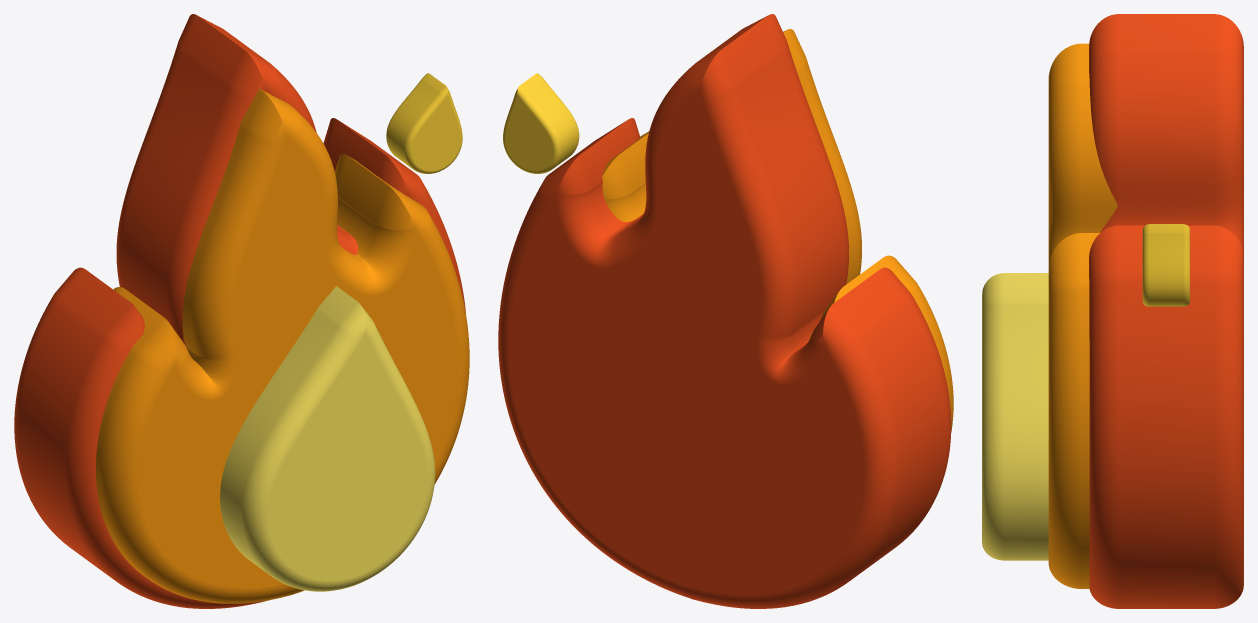
The model's file is flame.glb.
The picture shows the model from 3 angles, left to right: view 1: azimuth 30°, elevation 25°; view 2: azimuth 150°, elevation 25°; view 3: azimuth 270°, elevation 25°; orthographic projection. The views are drawn at different scales.
Visible parts, largest first — view 1: Tangerine body, Crimson rounded rim, flame-mesh0, flame-mesh1; view 2: Crimson rounded rim, Tangerine body, flame-mesh1; view 3: Crimson rounded rim, Tangerine body, flame-mesh0, flame-mesh1.
Part boxes in pixels (x1=…): Tangerine body: x1=96, y1=88, x2=469, y2=603; Crimson rounded rim: x1=14, y1=14, x2=465, y2=608; flame-mesh0: x1=220, y1=286, x2=435, y2=591; flame-mesh1: x1=386, y1=73, x2=462, y2=173; Crimson rounded rim: x1=498, y1=14, x2=951, y2=608; Tangerine body: x1=602, y1=29, x2=953, y2=433; flame-mesh1: x1=503, y1=73, x2=579, y2=173; Crimson rounded rim: x1=1089, y1=14, x2=1243, y2=608; Tangerine body: x1=1048, y1=43, x2=1117, y2=588; flame-mesh0: x1=982, y1=273, x2=1048, y2=560; flame-mesh1: x1=1142, y1=224, x2=1189, y2=306.
Bounding box in the file's own units: 0.1443 × 0.1852 × 0.0777.
